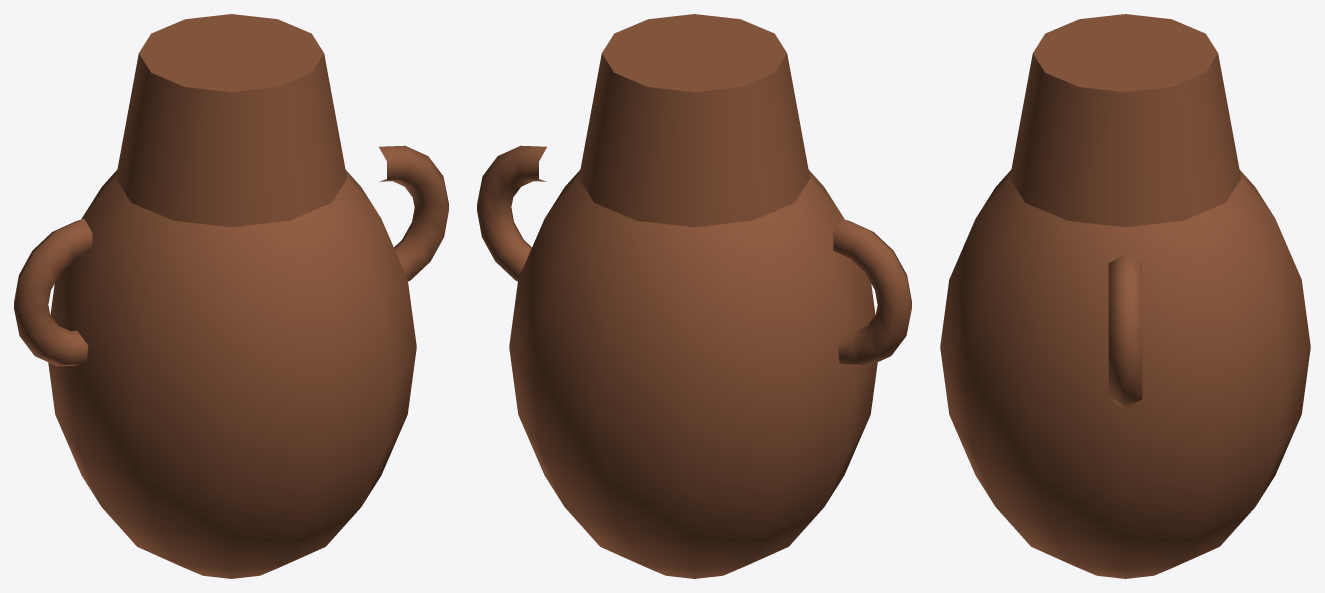
Rendered from jar-155276fb.glb.
The picture shows the model from 3 angles, left to right: view 1: azimuth 30°, elevation 25°; view 2: azimuth 150°, elevation 25°; view 3: azimuth 270°, elevation 25°; orthographic projection.
Bounding box in the file's own units: 0.65 × 0.732 × 0.48.
